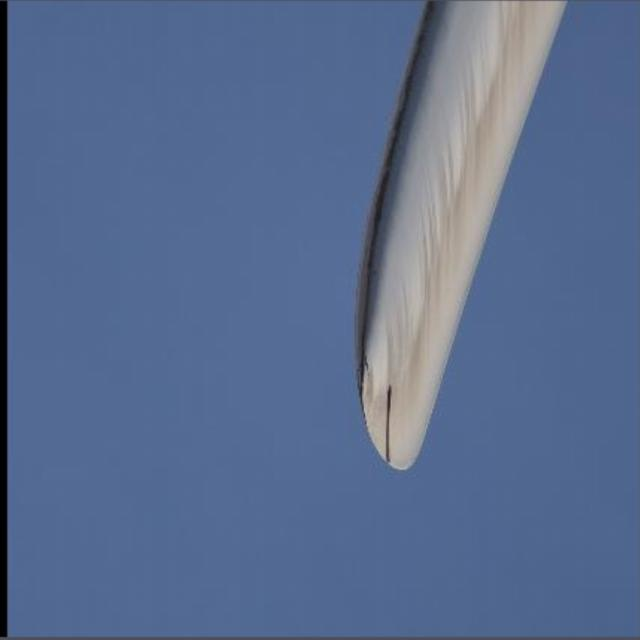Burn Mark: (383, 386, 392, 462)
EROSION: (335, 0, 422, 391)
